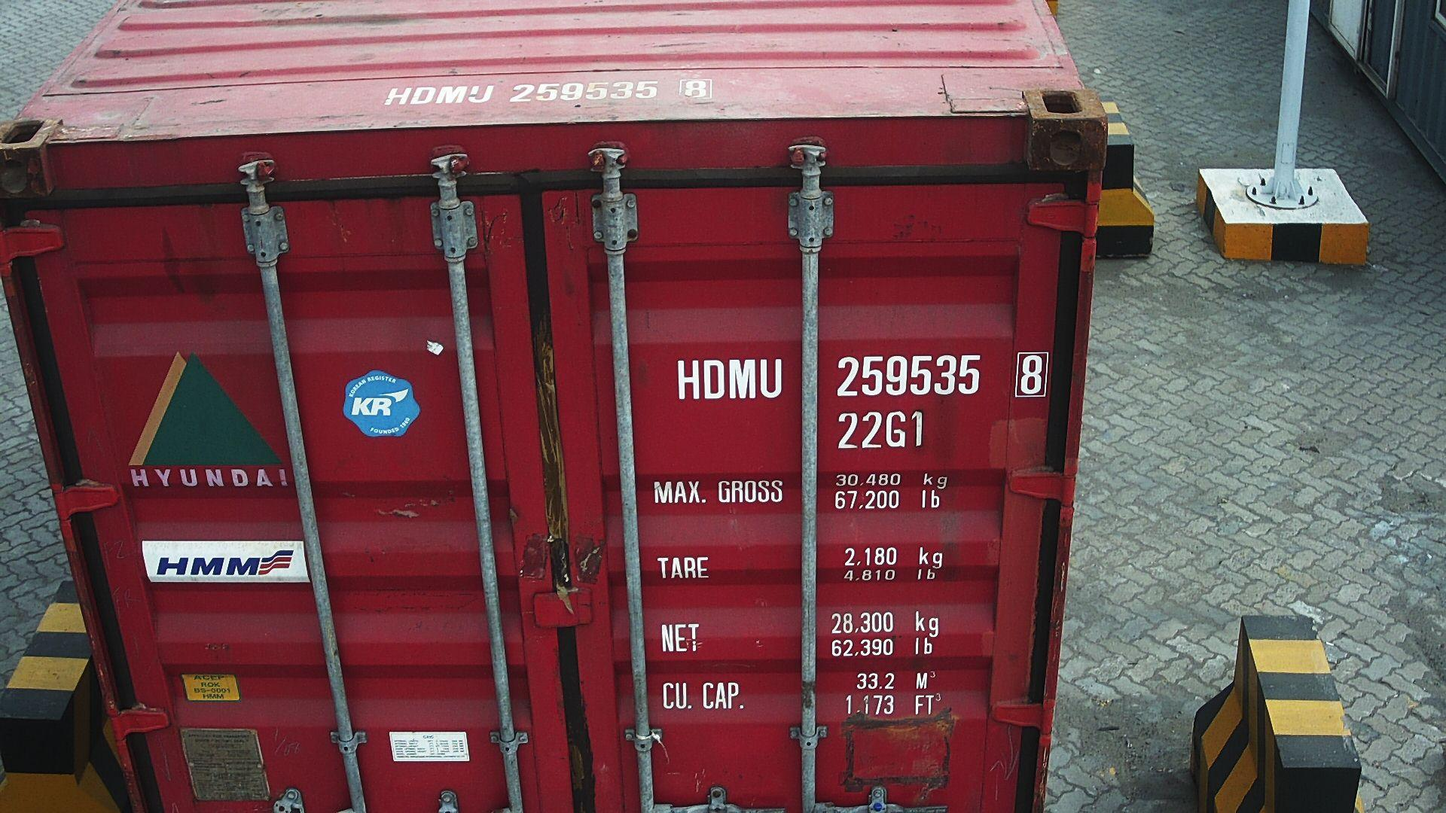container-numbers: (673, 349, 1054, 402), (377, 78, 720, 107), (834, 409, 929, 452)
